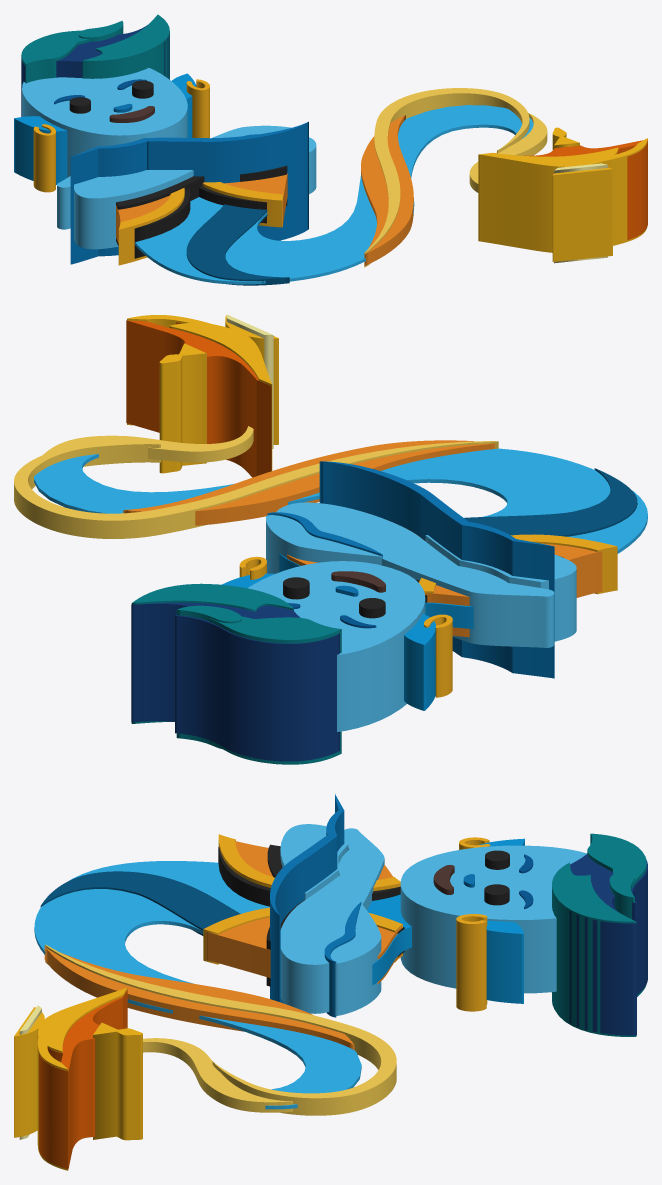
Rendered from emoji_u1f9de.glb.
3 views of the same model, one above another, from view 1: azimuth 30°, elevation 25°; view 2: azimuth 150°, elevation 25°; view 3: azimuth 270°, elevation 25° (orthographic). The views are drawn at different scales.
Parts seen in each view (by area): view 1: emoji_u1f9de; view 2: emoji_u1f9de; view 3: emoji_u1f9de.
Part boxes in pixels (x1,y1,x2,y2): emoji_u1f9de: [14, 14, 647, 285]; emoji_u1f9de: [14, 314, 647, 764]; emoji_u1f9de: [14, 794, 647, 1170].
Bounding box in the file's own units: 0.0328 × 0.0072 × 0.0329.
